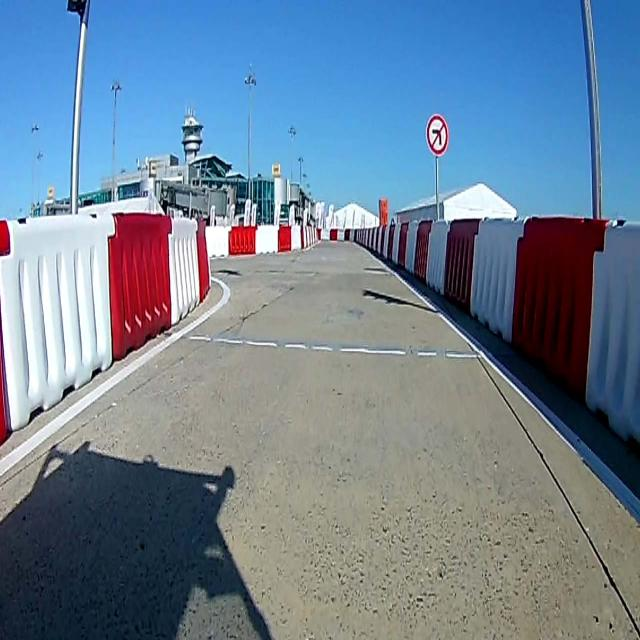soladonulmez: (426, 114, 448, 156)
